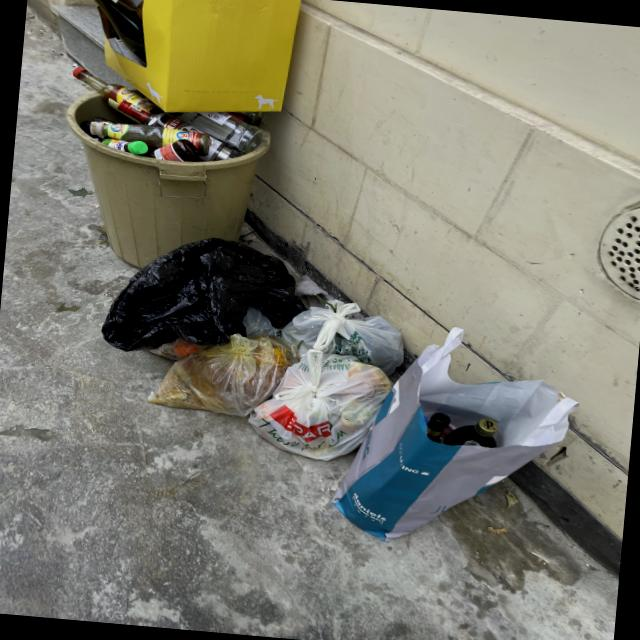black_bag: (102, 226, 326, 372)
other_waste: (330, 316, 618, 560), (41, 63, 284, 280), (64, 0, 313, 126)
white_bag: (235, 348, 408, 470), (141, 320, 307, 430), (287, 290, 423, 372)
